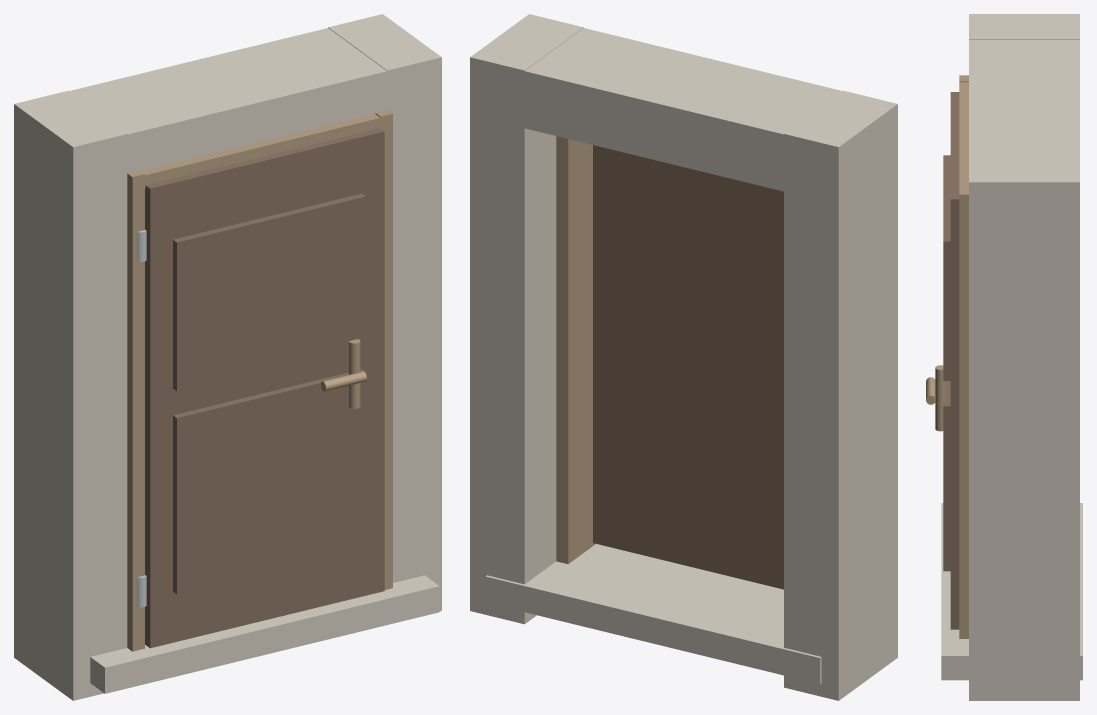
File: portal-real-estate.glb
The picture shows the model from 3 angles, left to right: view 1: azimuth 30°, elevation 25°; view 2: azimuth 150°, elevation 25°; view 3: azimuth 270°, elevation 25°; orthographic projection. The views are drawn at different scales.
Visible parts, largest first — view 1: estate_wall_left, estate_door, estate_panel_-0.74, estate_lintel, estate_panel_0.85, estate_wall_right, estate_threshold, estate_bronze_jamb_-1.09, estate_bronze_jamb_1.09, estate_bronze_head, estate_handle_vertical; view 2: estate_door, estate_wall_left, estate_wall_right, estate_lintel, estate_threshold, estate_bronze_jamb_1.09; view 3: estate_wall_right, estate_lintel, estate_door, estate_bronze_jamb_1.09, estate_wall_left, estate_threshold, estate_panel_0.85, estate_panel_-0.74, estate_bronze_head, estate_handle_vertical, estate_handle_horizontal.
Part boxes in pixels (x1=…): estate_wall_left: x1=14, y1=90, x2=127, y2=700; estate_door: x1=145, y1=128, x2=384, y2=648; estate_panel_-0.74: x1=173, y1=369, x2=365, y2=594; estate_lintel: x1=14, y1=28, x2=441, y2=203; estate_panel_0.85: x1=173, y1=193, x2=365, y2=391; estate_wall_right: x1=328, y1=14, x2=441, y2=611; estate_threshold: x1=90, y1=575, x2=439, y2=693; estate_bronze_jamb_-1.09: x1=127, y1=170, x2=144, y2=651; estate_bronze_jamb_1.09: x1=375, y1=110, x2=392, y2=589; estate_bronze_head: x1=135, y1=114, x2=391, y2=189; estate_handle_vertical: x1=348, y1=339, x2=360, y2=408; estate_door: x1=593, y1=145, x2=783, y2=589; estate_wall_left: x1=784, y1=90, x2=897, y2=700; estate_wall_right: x1=470, y1=14, x2=583, y2=624; estate_lintel: x1=470, y1=28, x2=897, y2=204; estate_threshold: x1=485, y1=544, x2=821, y2=684; estate_bronze_jamb_1.09: x1=556, y1=136, x2=595, y2=563; estate_wall_right: x1=969, y1=157, x2=1079, y2=700; estate_lintel: x1=969, y1=39, x2=1079, y2=236; estate_door: x1=950, y1=92, x2=959, y2=629; estate_bronze_jamb_1.09: x1=959, y1=189, x2=968, y2=638; estate_wall_left: x1=969, y1=14, x2=1079, y2=39; estate_threshold: x1=941, y1=503, x2=1082, y2=680; estate_panel_0.85: x1=943, y1=155, x2=950, y2=380; estate_panel_-0.74: x1=943, y1=381, x2=950, y2=571; estate_bronze_head: x1=959, y1=82, x2=968, y2=188; estate_handle_vertical: x1=935, y1=365, x2=946, y2=431; estate_handle_horizontal: x1=926, y1=377, x2=935, y2=404.
Size of the model in its own units: 3.24 by 4.65 by 1.28.
